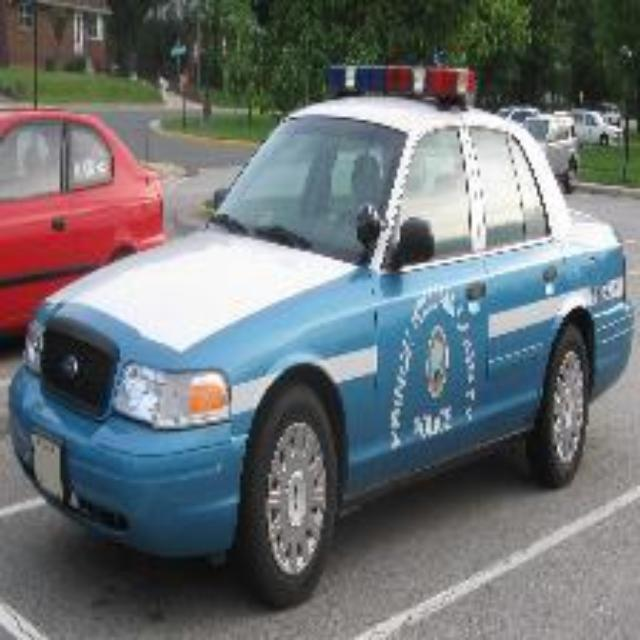emergency: (6, 67, 632, 608)
